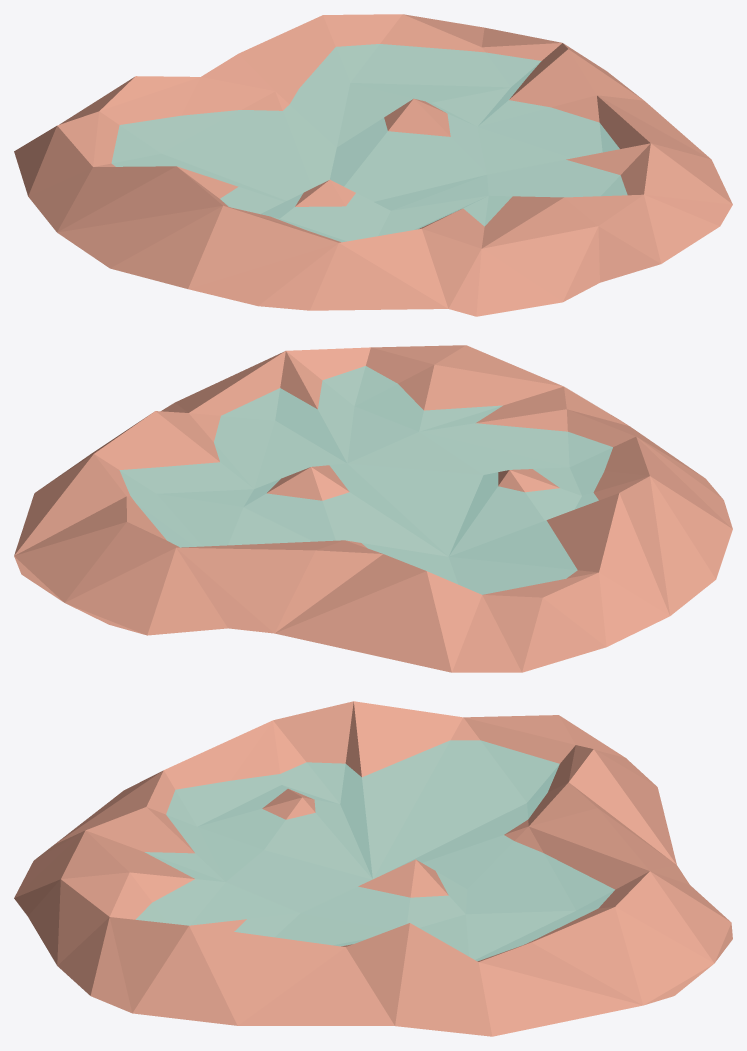
File: pool.glb
3 views of the same model, one above another, from view 1: azimuth 30°, elevation 25°; view 2: azimuth 150°, elevation 25°; view 3: azimuth 270°, elevation 25° (orthographic). The views are drawn at different scales.
Parts seen in each view (by area): view 1: Dirt, Tone; view 2: Dirt, Tone; view 3: Dirt, Tone.
Boxes of the visible parts, x1,y1,x2,y2 form: Dirt: (14, 14, 732, 316); Tone: (111, 44, 627, 242); Dirt: (14, 345, 732, 672); Tone: (119, 366, 612, 594); Dirt: (14, 701, 732, 1036); Tone: (135, 740, 614, 961).
Size of the model in its own units: 1.67 by 0.2541 by 1.69.
